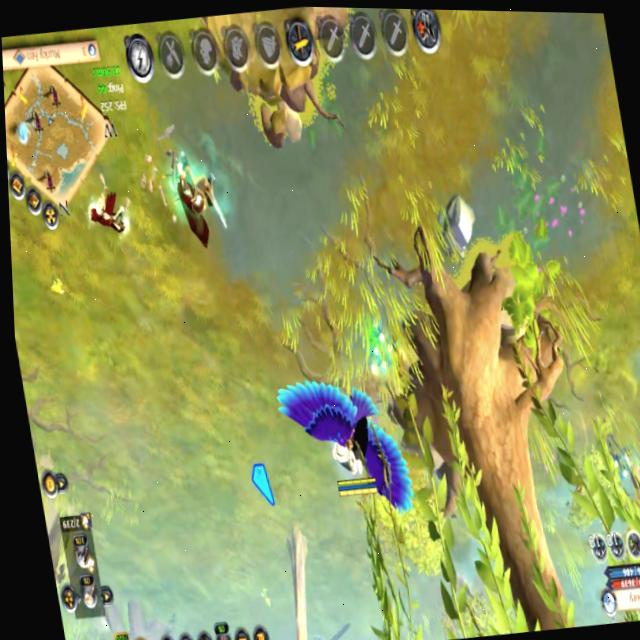hide: (351, 310, 405, 388), (590, 428, 640, 488)
ore: (158, 142, 237, 257), (75, 157, 140, 248)
red: (263, 354, 422, 533)
